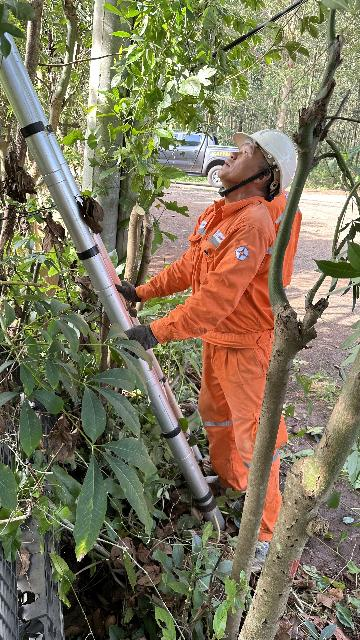gloves: (116, 320, 164, 364), (113, 274, 141, 310)
helmet: (236, 120, 306, 198)
shoes: (242, 524, 278, 571)
